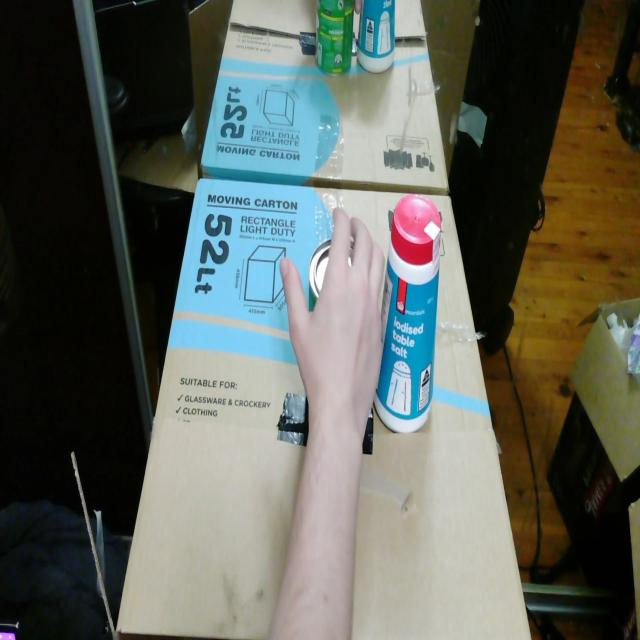nestle_milo_tin: (309, 239, 331, 311), (348, 238, 354, 265)
woolworths_salt_bottle: (373, 195, 441, 433)
